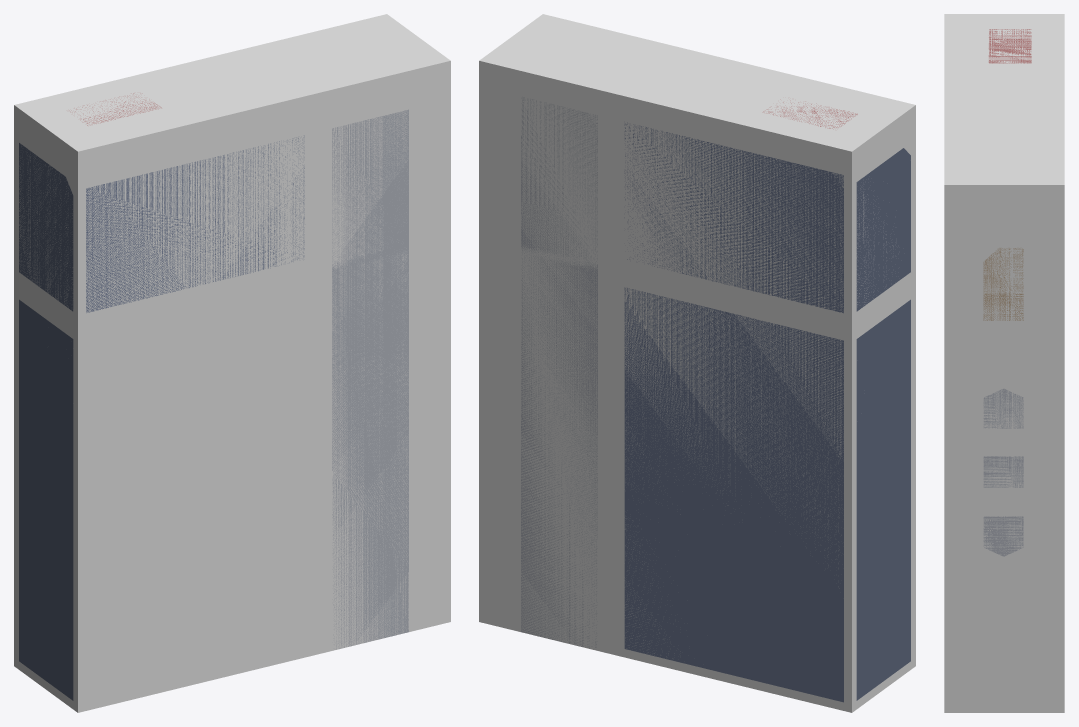
The model's file is Walkman.fbx.
3 views of the same model, side by side, from view 1: azimuth 30°, elevation 25°; view 2: azimuth 150°, elevation 25°; view 3: azimuth 270°, elevation 25° (orthographic). The views are drawn at different scales.
Parts seen in each view (by area): view 1: Walkman_COL0, Walkman_LOD0; view 2: Walkman_COL0, Walkman_LOD0; view 3: Walkman_COL0, Walkman_LOD0.
Part boxes in pixels (x1,y1,x2,y2): Walkman_COL0: (14,14,450,712); Walkman_LOD0: (19,93,408,700); Walkman_COL0: (479,14,915,712); Walkman_LOD0: (521,97,910,702); Walkman_COL0: (944,14,1064,712); Walkman_LOD0: (983,29,1031,556).
Size of what is drawn, in the model's own units: 0.2622 by 0.3771 by 0.0778.
